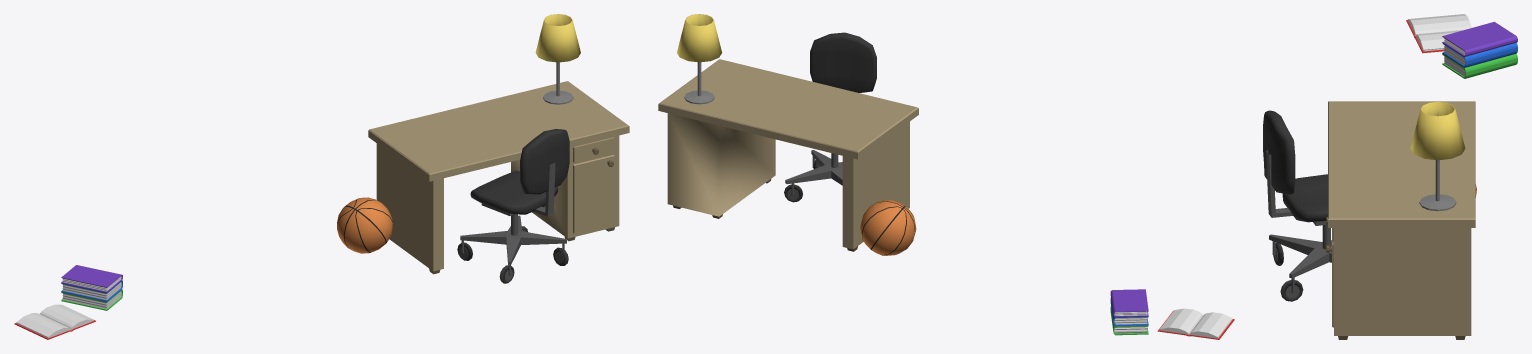
Rendered from Environment-Ep5.fbx.
The picture shows the model from 3 angles, left to right: view 1: azimuth 30°, elevation 25°; view 2: azimuth 150°, elevation 25°; view 3: azimuth 270°, elevation 25°; orthographic projection. The views are drawn at different scales.
Visible parts, largest first — view 1: Desk, Chair, Books, Basketball, Desk Lamp; view 2: Desk, Chair, Books, Basketball, Desk Lamp; view 3: Desk, Chair, Books, Desk Lamp.
Boxes of the visible parts, box(x1,y1,x2,y2) form: Desk: box(368, 81, 629, 274); Chair: box(457, 129, 569, 283); Books: box(14, 265, 122, 339); Basketball: box(337, 197, 392, 253); Desk Lamp: box(535, 14, 580, 104); Desk: box(658, 59, 918, 251); Chair: box(784, 32, 876, 202); Books: box(1110, 289, 1234, 339); Basketball: box(860, 200, 916, 255); Desk Lamp: box(677, 14, 722, 104); Desk: box(1326, 101, 1475, 339); Chair: box(1263, 110, 1331, 301); Books: box(1406, 14, 1517, 78); Desk Lamp: box(1410, 101, 1465, 211).
Bounding box in the file's own units: 5478 × 1761 × 1792.
